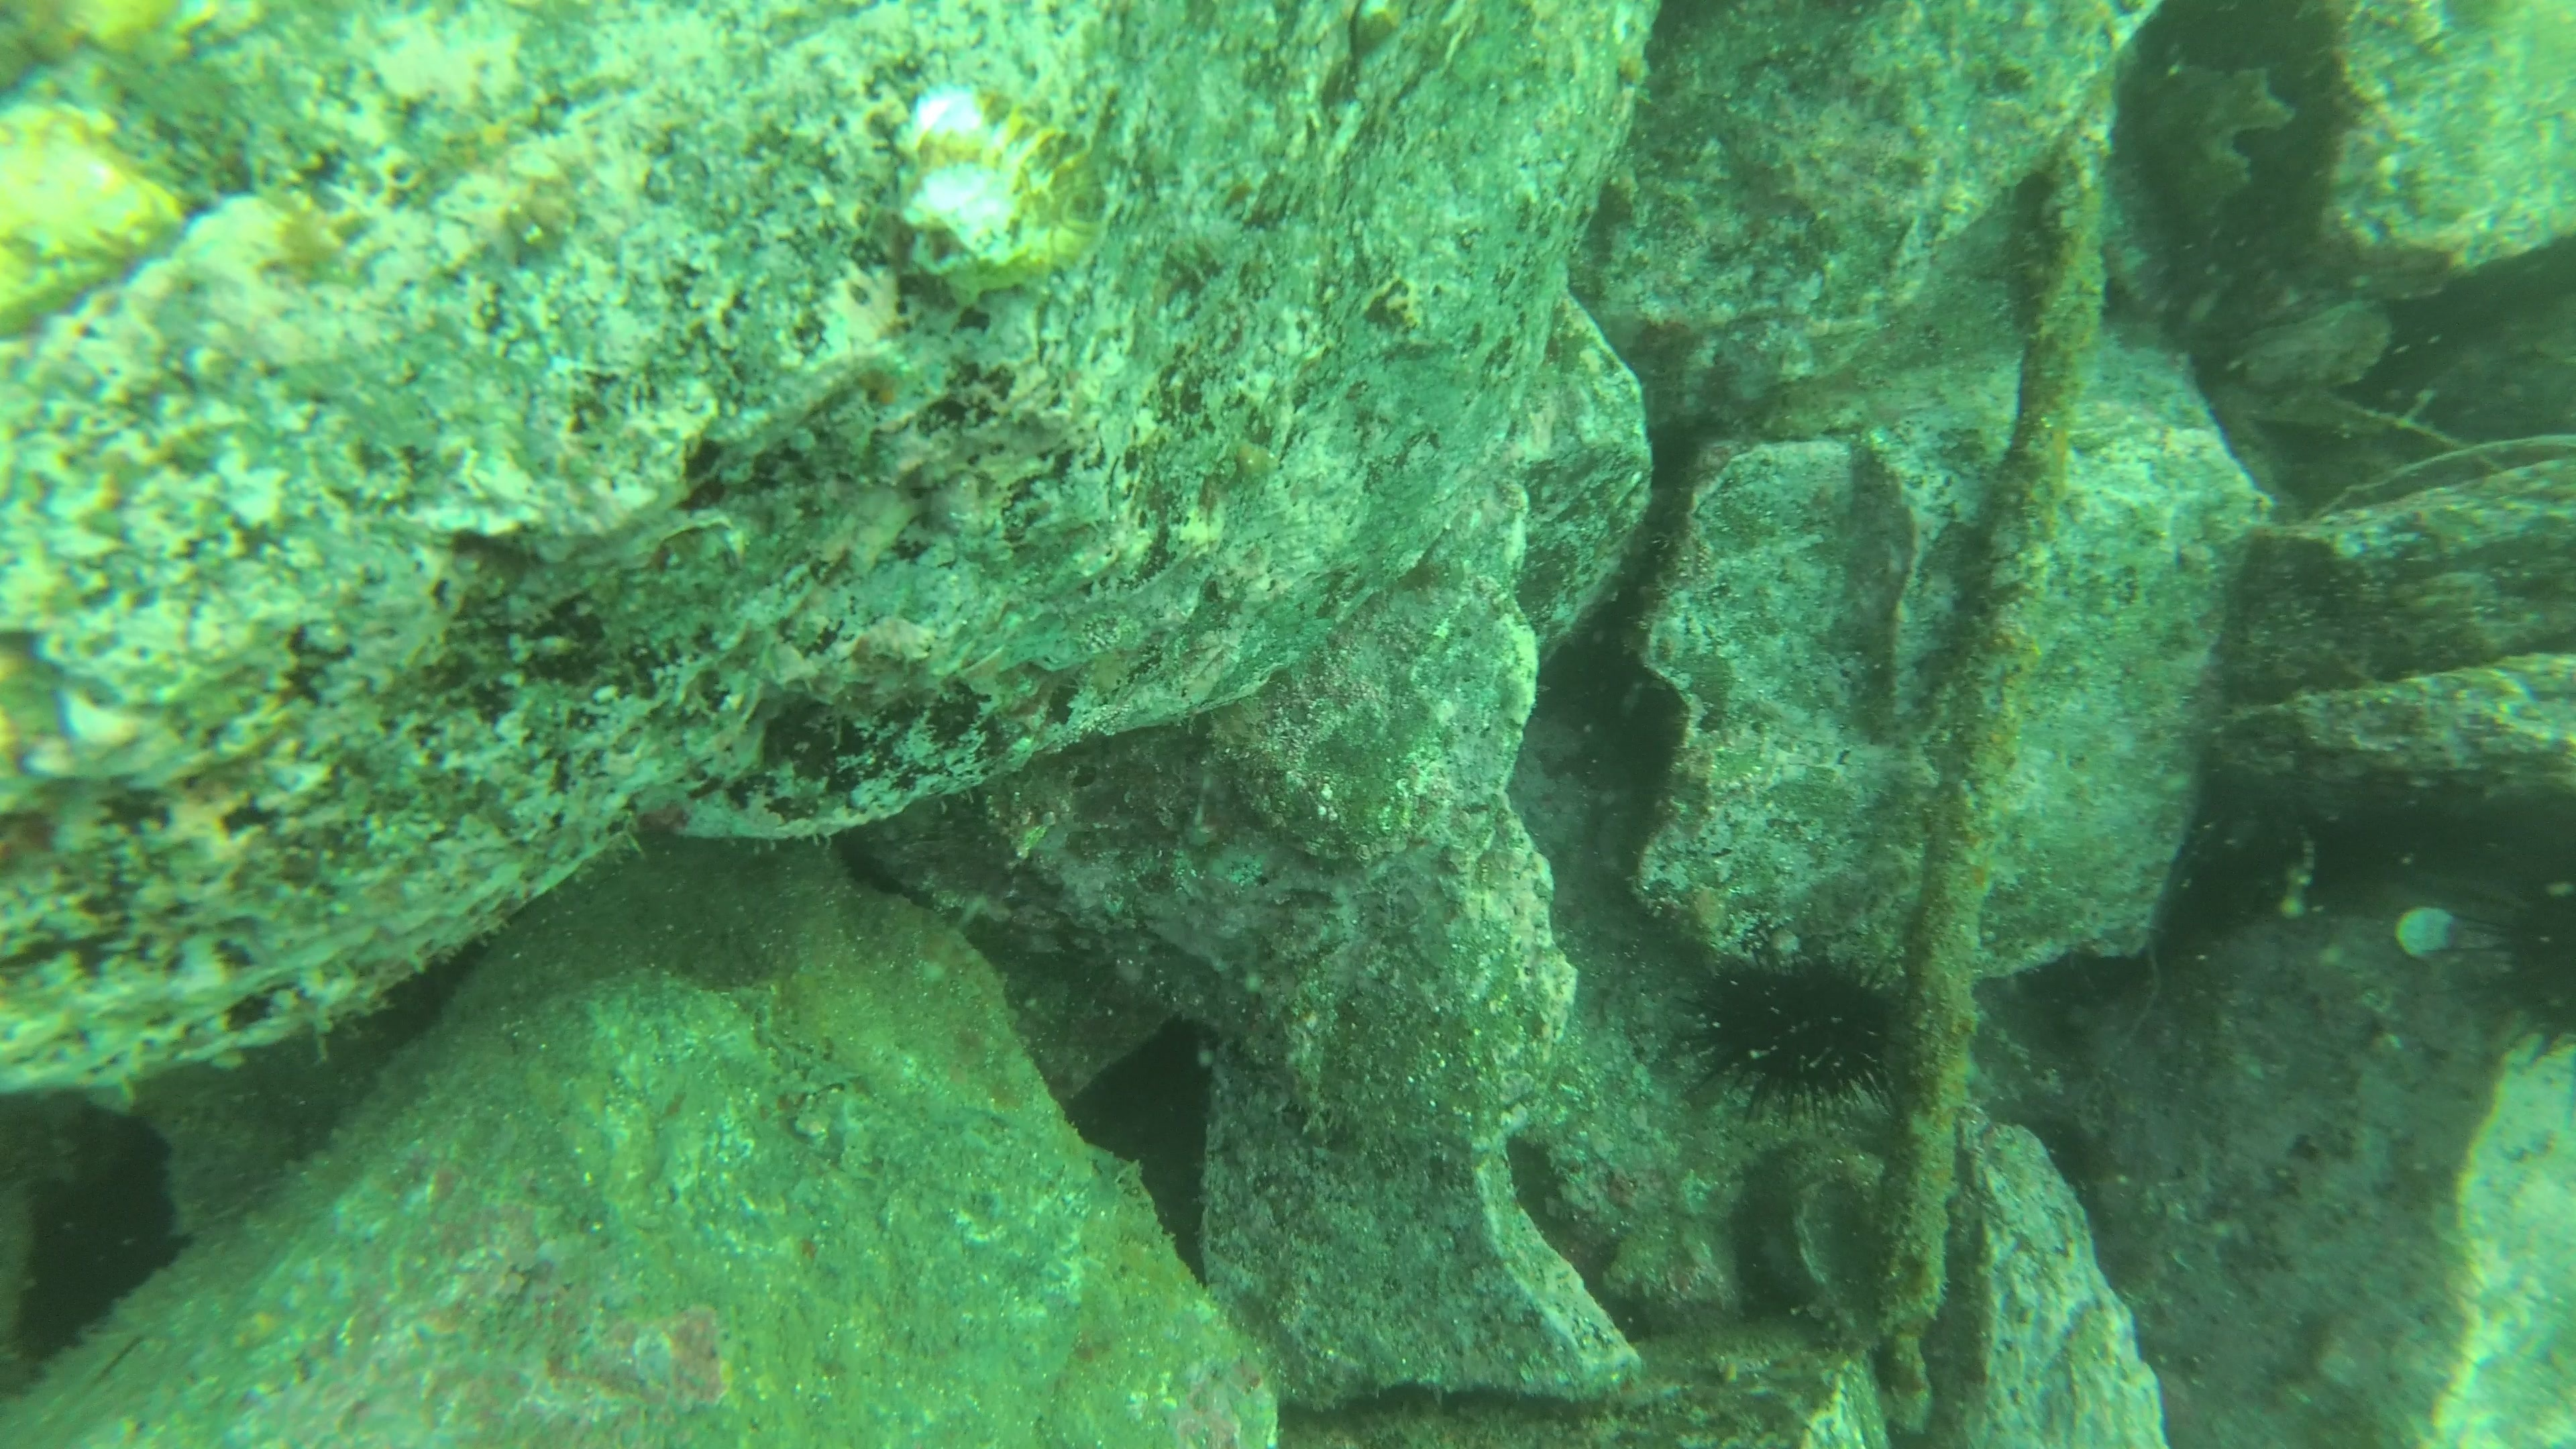echinus: (1686, 947, 1911, 1118), (2470, 828, 2574, 1058)
